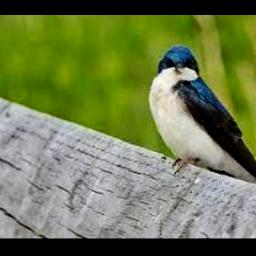Swallow: (149, 45, 256, 190)
